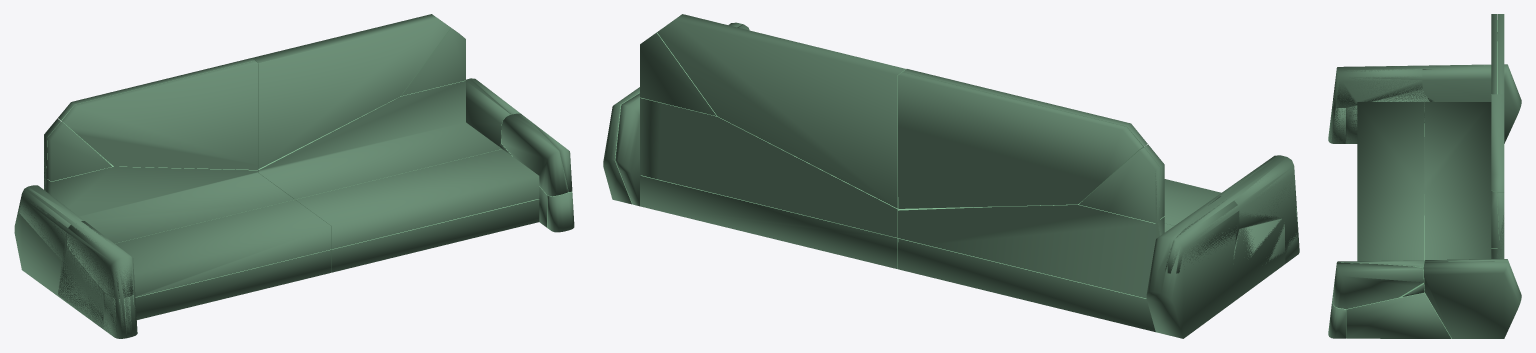
Rendered from Sofa_Roto.fbx.
3 renders of one model, left to right at view 1: azimuth 30°, elevation 25°; view 2: azimuth 150°, elevation 25°; view 3: azimuth 270°, elevation 25°, orthographic. The views are drawn at different scales.
Parts seen in each view (by area): view 1: Sofa.007_cell.009, Sofa.007_cell.005, Sofa.007_cell.007, Sofa.007_cell, Sofa.007_cell.013, Sofa.007_cell.011, Sofa.008_cell.014, Sofa.007_cell.012, Sofa.007_cell.002, Sofa.008_cell.010, Sofa.008_cell.003, Sofa.007_cell.014 (+8 smaller); view 2: Sofa.007_cell.009, Sofa.007_cell.004, Sofa.007_cell.007, Sofa.007_cell.013, Sofa.008_cell.014, Sofa.007_cell.010, Sofa.007_cell.006, Sofa.007_cell.003, Sofa.007_cell.008, Sofa.008_cell.007, Sofa.008_cell, Sofa.008_cell.003 (+4 smaller); view 3: Sofa.008_cell.009, Sofa.007_cell.013, Sofa.007_cell.011, Sofa.008_cell.014, Sofa.007_cell.007, Sofa.007_cell, Sofa.008_cell.005, Sofa.008_cell.001, Sofa.008_cell.003, Sofa.007_cell.009, Sofa.008_cell.013, Sofa.008_cell.010 (+7 smaller).
Boxes of the visible parts, x1=… form: Sofa.007_cell.009: x1=252, y1=14, x2=450, y2=168; Sofa.007_cell.005: x1=61, y1=61, x2=258, y2=169; Sofa.007_cell.007: x1=258, y1=80, x2=501, y2=199; Sofa.007_cell: x1=295, y1=149, x2=539, y2=249; Sofa.007_cell.013: x1=44, y1=164, x2=294, y2=243; Sofa.007_cell.011: x1=115, y1=200, x2=331, y2=297; Sofa.008_cell.014: x1=14, y1=185, x2=137, y2=338; Sofa.007_cell.012: x1=331, y1=199, x2=539, y2=272; Sofa.007_cell.002: x1=135, y1=249, x2=331, y2=319; Sofa.008_cell.010: x1=501, y1=113, x2=568, y2=196; Sofa.008_cell.003: x1=67, y1=221, x2=133, y2=298; Sofa.007_cell.014: x1=46, y1=121, x2=112, y2=181; Sofa.007_cell.009: x1=657, y1=14, x2=905, y2=208; Sofa.007_cell.004: x1=898, y1=72, x2=1142, y2=208; Sofa.007_cell.007: x1=640, y1=97, x2=898, y2=237; Sofa.007_cell.013: x1=898, y1=201, x2=1173, y2=298; Sofa.008_cell.014: x1=1146, y1=155, x2=1298, y2=338; Sofa.007_cell.010: x1=640, y1=175, x2=898, y2=268; Sofa.007_cell.006: x1=898, y1=238, x2=1155, y2=331; Sofa.007_cell.003: x1=1079, y1=147, x2=1159, y2=223; Sofa.007_cell.008: x1=640, y1=32, x2=716, y2=116; Sofa.008_cell.007: x1=1165, y1=196, x2=1239, y2=273; Sofa.008_cell: x1=615, y1=93, x2=640, y2=206; Sofa.008_cell.003: x1=1217, y1=155, x2=1296, y2=228; Sofa.008_cell.009: x1=1423, y1=261, x2=1521, y2=338; Sofa.007_cell.013: x1=1424, y1=92, x2=1497, y2=194; Sofa.007_cell.011: x1=1357, y1=102, x2=1424, y2=214; Sofa.008_cell.014: x1=1328, y1=64, x2=1521, y2=143; Sofa.007_cell.007: x1=1424, y1=194, x2=1504, y2=260; Sofa.007_cell: x1=1357, y1=194, x2=1423, y2=261; Sofa.008_cell.005: x1=1346, y1=292, x2=1451, y2=338; Sofa.008_cell.001: x1=1332, y1=262, x2=1423, y2=308; Sofa.008_cell.003: x1=1333, y1=65, x2=1422, y2=107; Sofa.007_cell.009: x1=1491, y1=94, x2=1504, y2=197; Sofa.008_cell.013: x1=1346, y1=91, x2=1429, y2=143; Sofa.008_cell.010: x1=1332, y1=260, x2=1424, y2=302.
Bounding box in the file's own units: 279 × 90.6 × 111.
